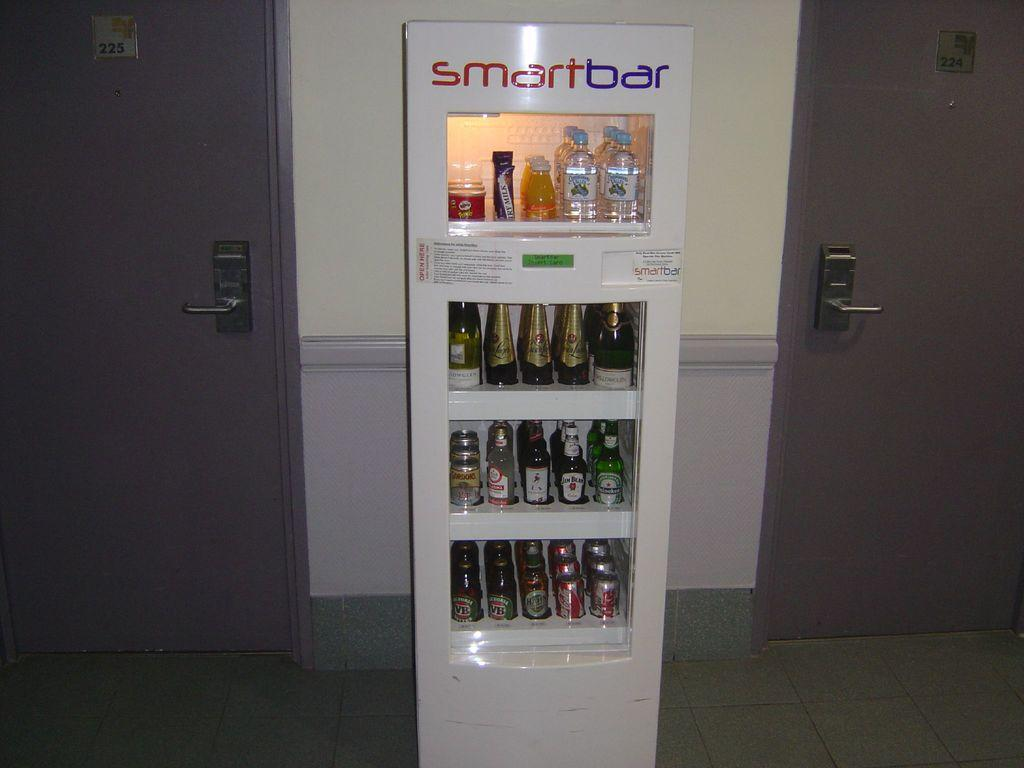handle: (830, 294, 884, 321), (182, 298, 238, 321)
